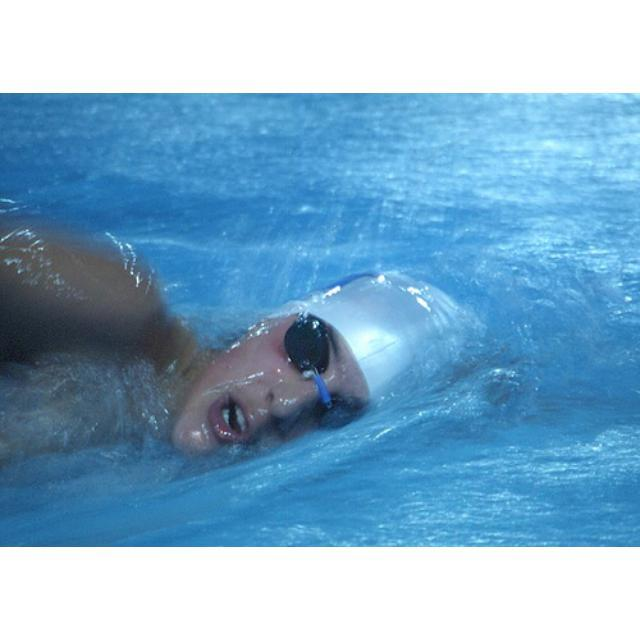human: (1, 221, 577, 471)
